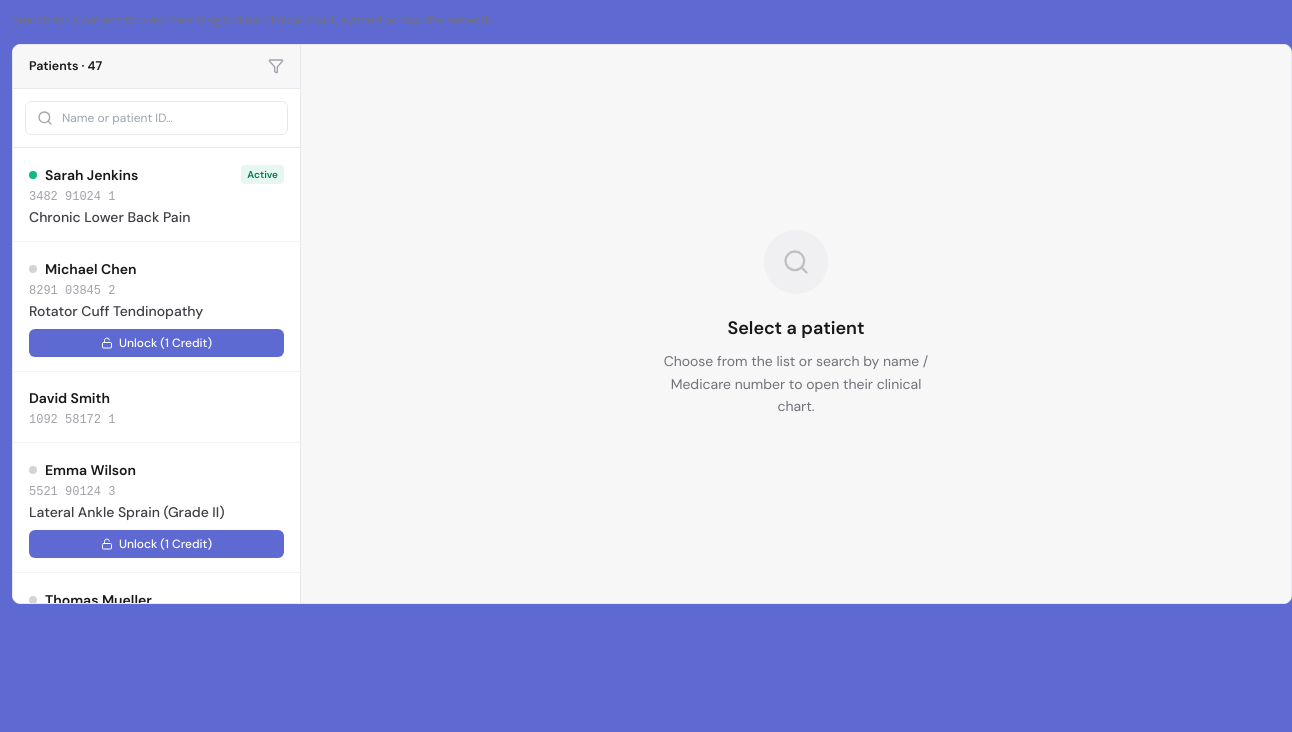
Test: PatientSearch › filters the patient list as the user types a name
Type "Sarah" into the field with placeholder "Name or patient ID…". click: (156, 118)
box: 25,101 -> 288,135
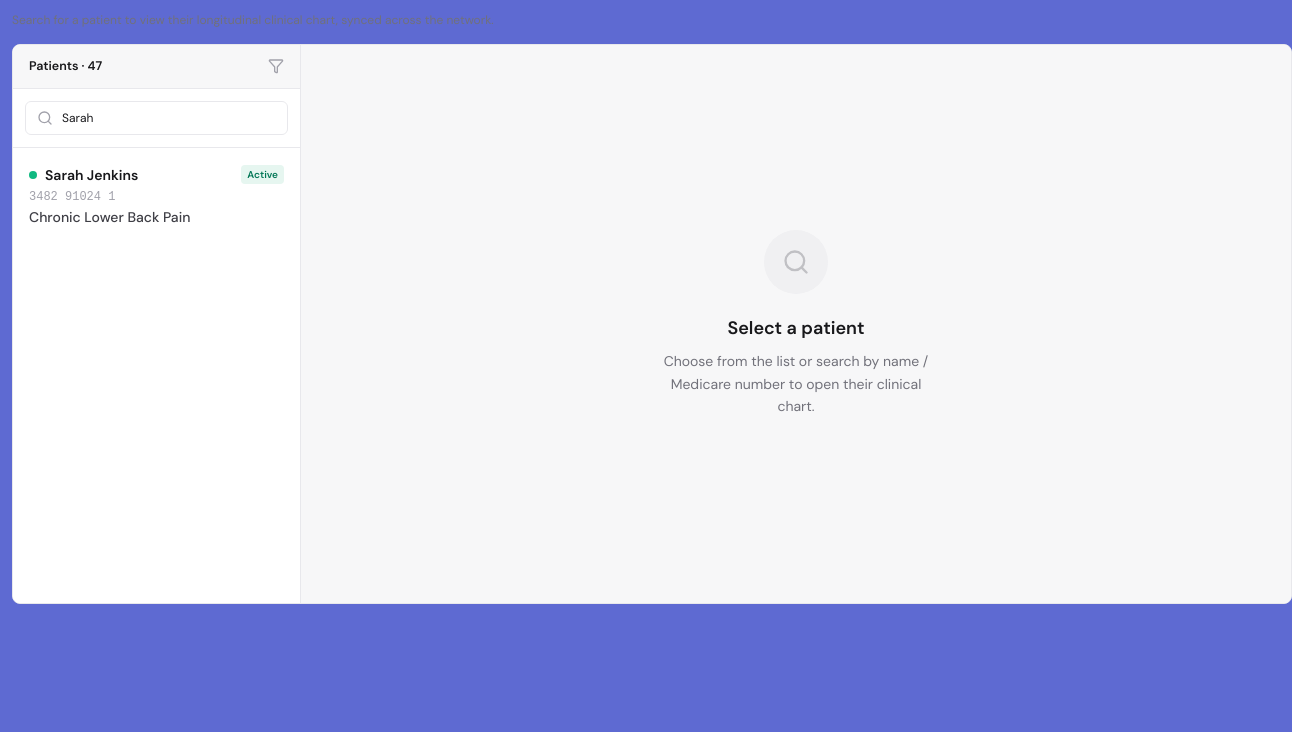
Expected: the text "Sarah Jenkins" is shown, 45,165 -> 138,185
Expected: the button "Michael Chen" is gone
